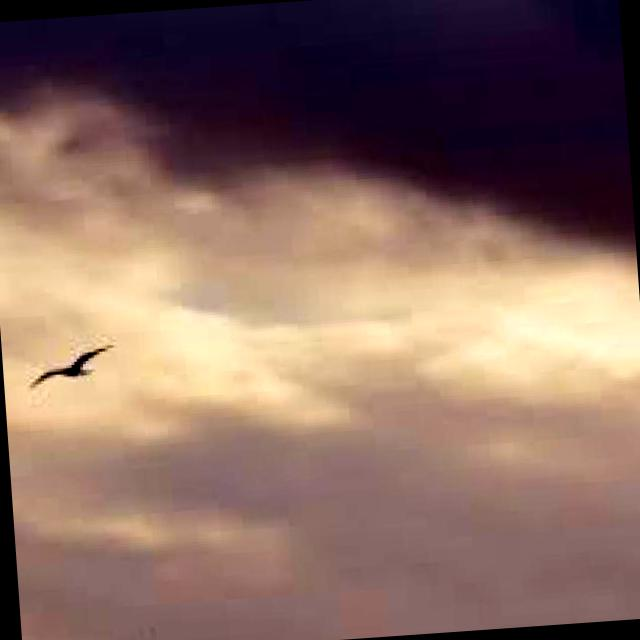bird: (21, 336, 114, 388)
